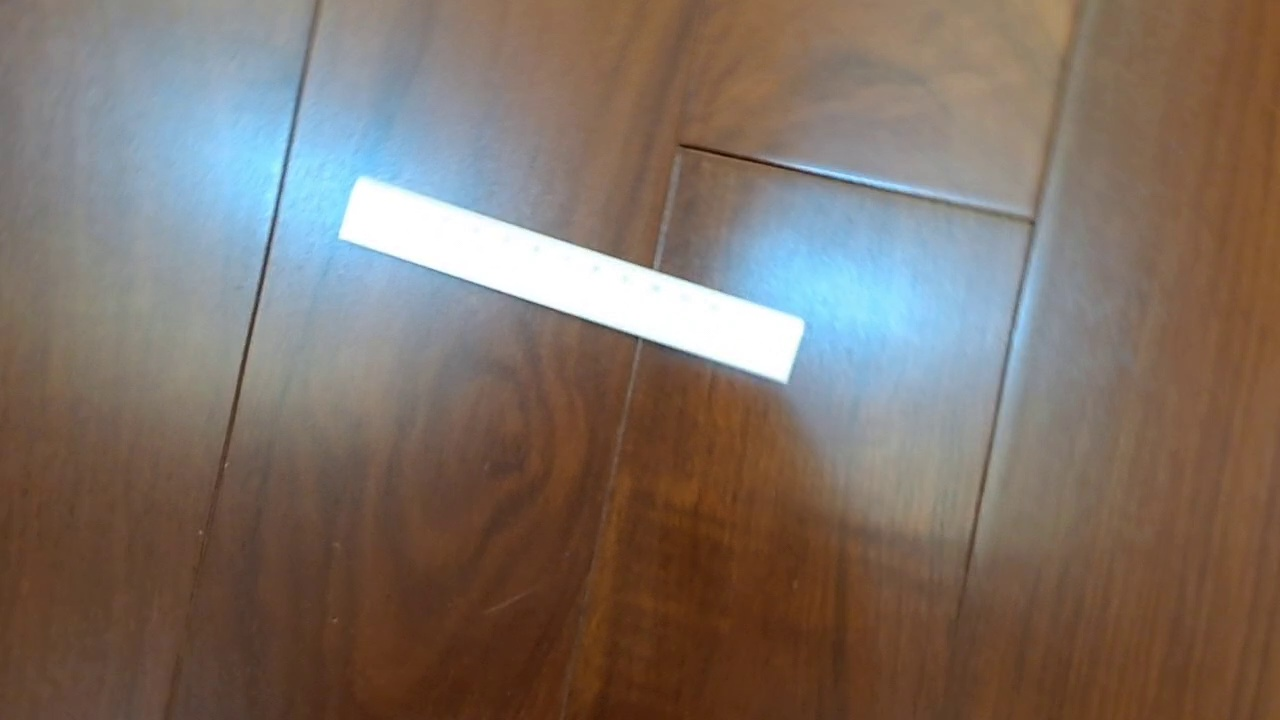ruler: (335, 172, 807, 388)
